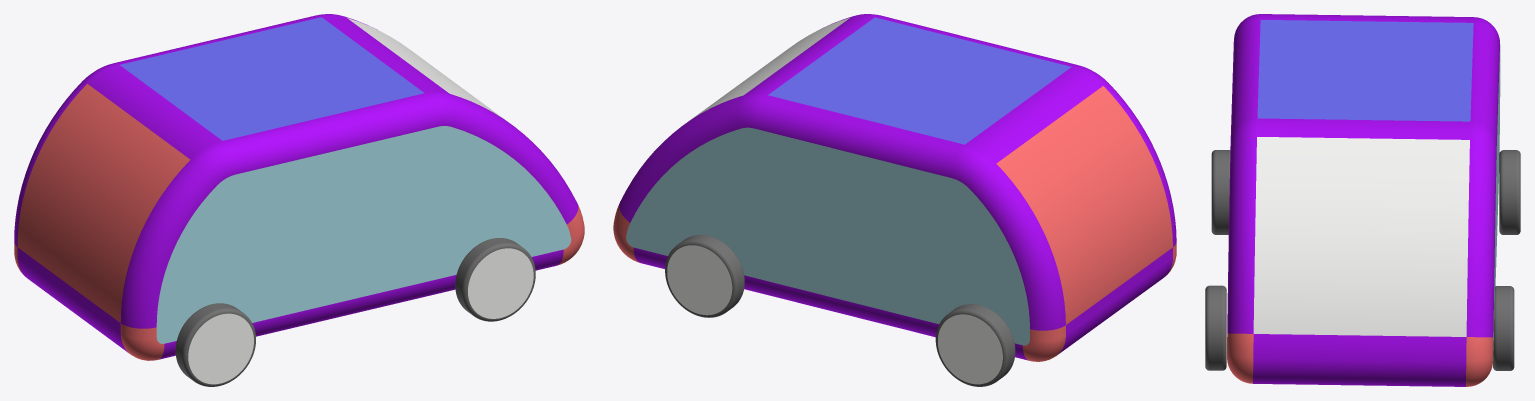
The model's file is car.dae.
3 views of the same model, side by side, from view 1: azimuth 30°, elevation 25°; view 2: azimuth 150°, elevation 25°; view 3: azimuth 270°, elevation 25° (orthographic).
Parts seen in each view (by area): view 1: base_link, wheel.003, wheel.002; view 2: base_link, wheel.001, wheel; view 3: base_link, wheel.002, wheel, wheel.001, wheel.003.
Boxes of the visible parts, bbox=[...] form: base_link: bbox=[14, 14, 584, 360]; wheel.003: bbox=[175, 303, 255, 386]; wheel.002: bbox=[455, 238, 535, 321]; base_link: bbox=[613, 14, 1176, 361]; wheel.001: bbox=[665, 235, 744, 317]; wheel: bbox=[935, 304, 1015, 386]; base_link: bbox=[1227, 14, 1500, 386]; wheel.002: bbox=[1205, 285, 1226, 370]; wheel: bbox=[1499, 150, 1520, 234]; wheel.001: bbox=[1493, 286, 1514, 370]; wheel.003: bbox=[1211, 150, 1230, 234].
Size of the model in its own units: 0.6025 by 0.3553 by 0.2789.
